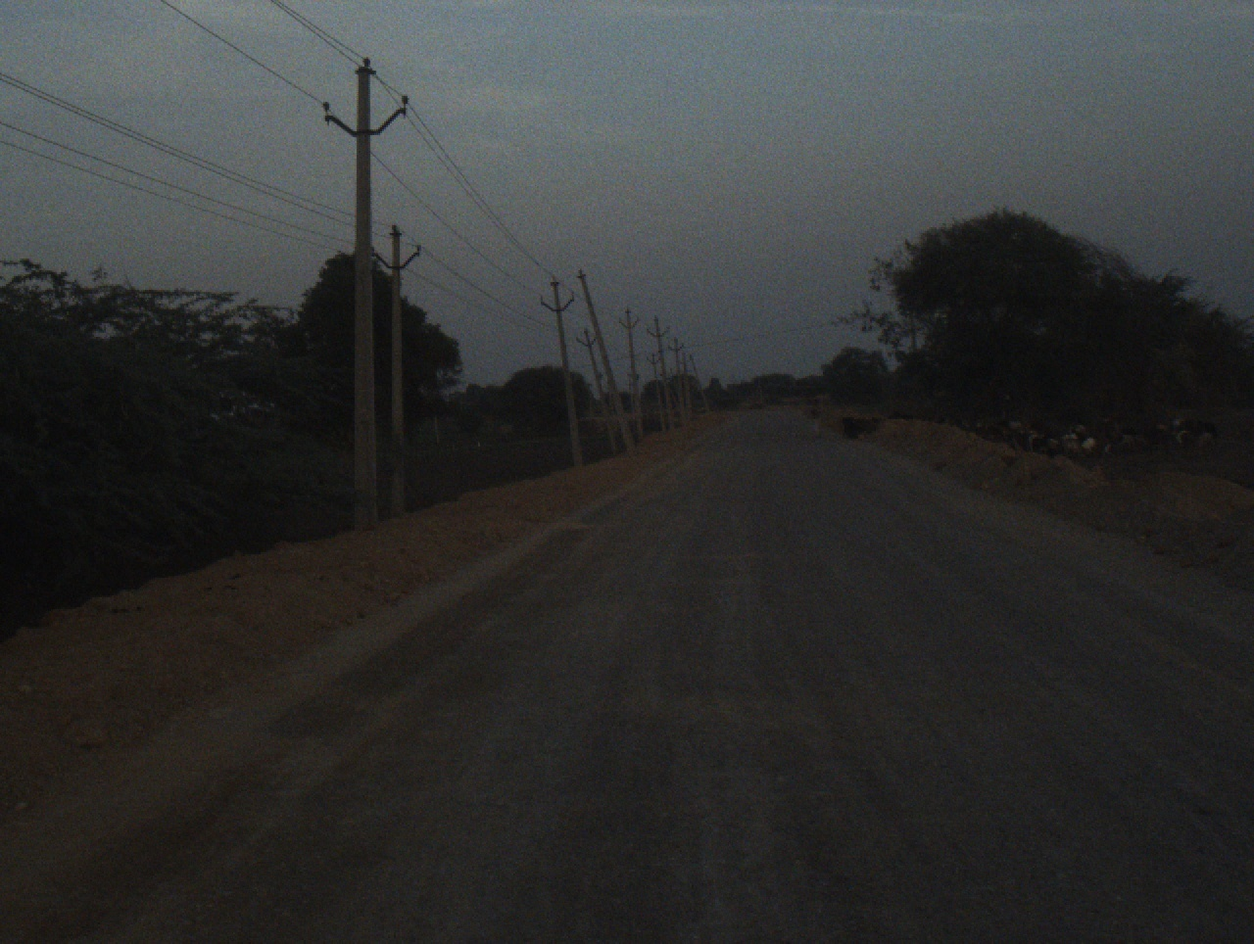animal: (1102, 407, 1177, 444), (1034, 420, 1091, 459), (1185, 409, 1237, 446), (984, 411, 1022, 440), (843, 407, 882, 433), (930, 407, 971, 424)
person: (808, 392, 826, 440)
